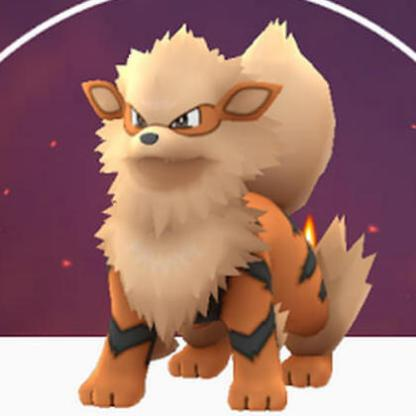Arcanine: (74, 30, 347, 408)
